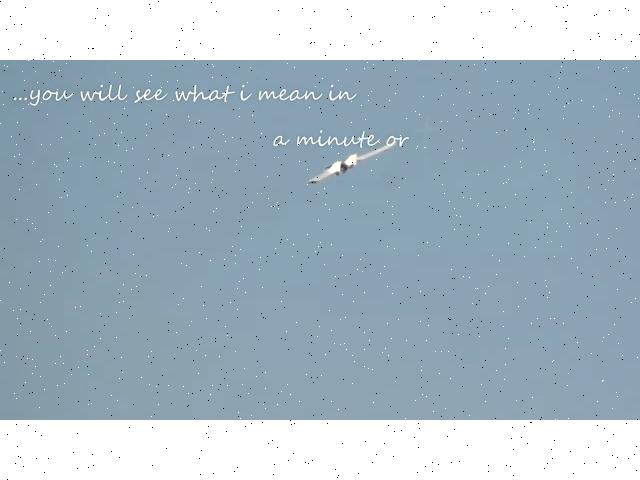Anti-Drone: (294, 139, 410, 188)
